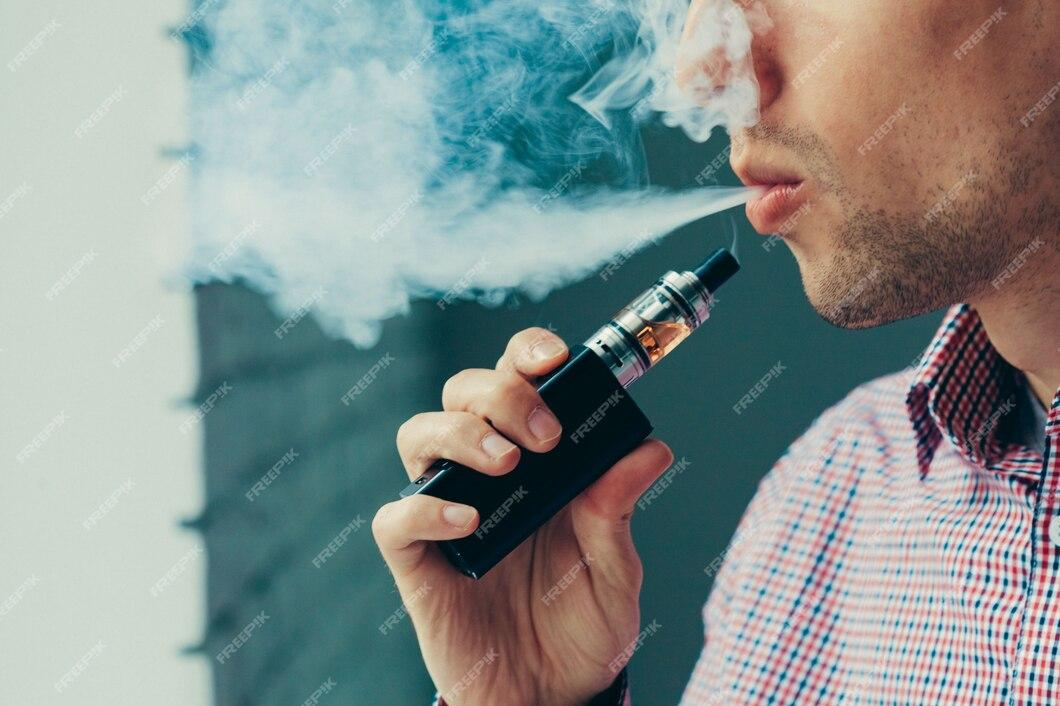Vape: (401, 249, 738, 579)
